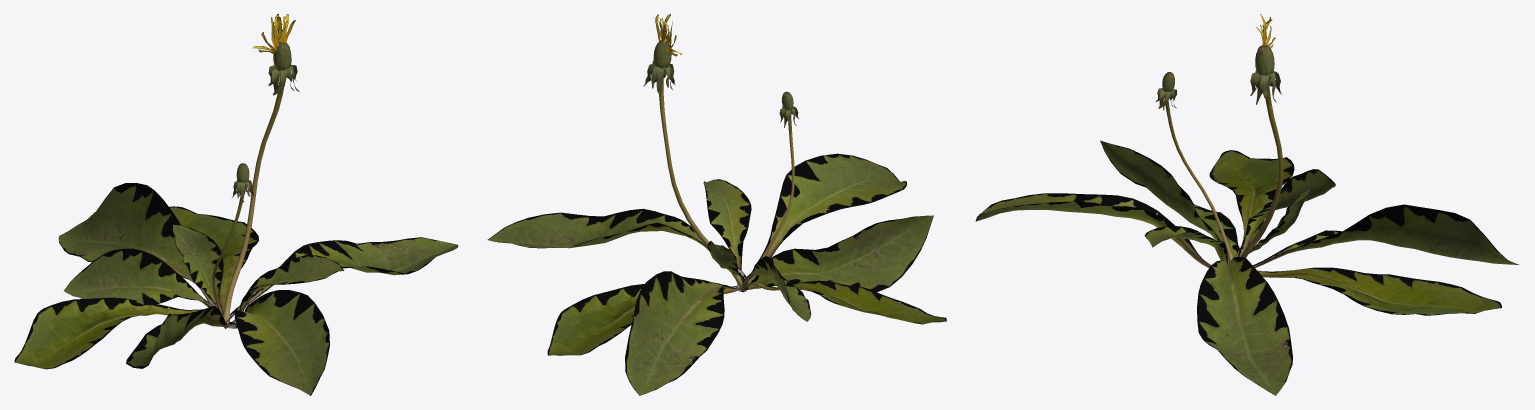
File: Planta_8.glb
3 views of the same model, side by side, from view 1: azimuth 30°, elevation 25°; view 2: azimuth 150°, elevation 25°; view 3: azimuth 270°, elevation 25° (orthographic). The views are drawn at different scales.
Parts seen in each view (by area): view 1: Planta 8; view 2: Planta 8; view 3: Planta 8.
Part boxes in pixels (bbox=[...]): Planta 8: bbox=[14, 14, 458, 395]; Planta 8: bbox=[487, 14, 946, 395]; Planta 8: bbox=[975, 14, 1519, 395].
Size of the model in its own units: 0.3058 by 0.1817 by 0.3008.
1 material, 1 textured.
